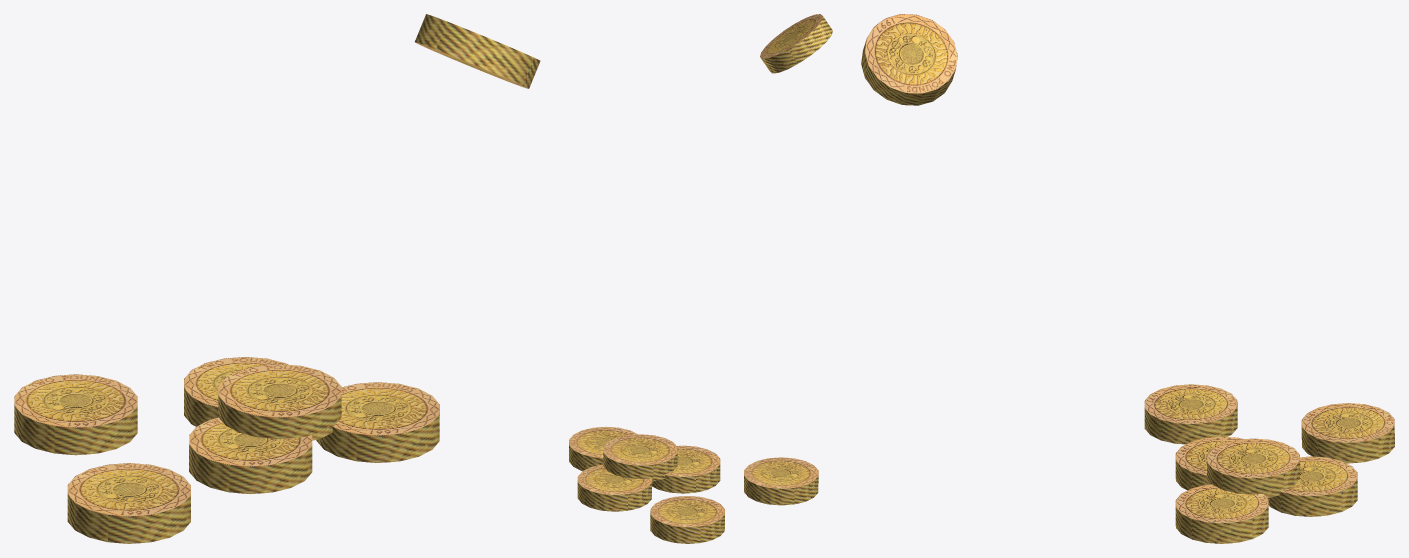
Rendered from tavern_222.gltf.
3 renders of one model, left to right at view 1: azimuth 30°, elevation 25°; view 2: azimuth 150°, elevation 25°; view 3: azimuth 270°, elevation 25°, orthographic. The views are drawn at different scales.
Parts seen in each view (by area): view 1: Box123_Material #170_0.028; view 2: Box123_Material #170_0.028; view 3: Box123_Material #170_0.028.
Part boxes in pixels (x1,y1,x2,y2): Box123_Material #170_0.028: [14, 14, 540, 543]; Box123_Material #170_0.028: [569, 14, 832, 543]; Box123_Material #170_0.028: [861, 14, 1394, 543].
Size of the model in its own units: 1.7 by 2.61 by 2.76.
